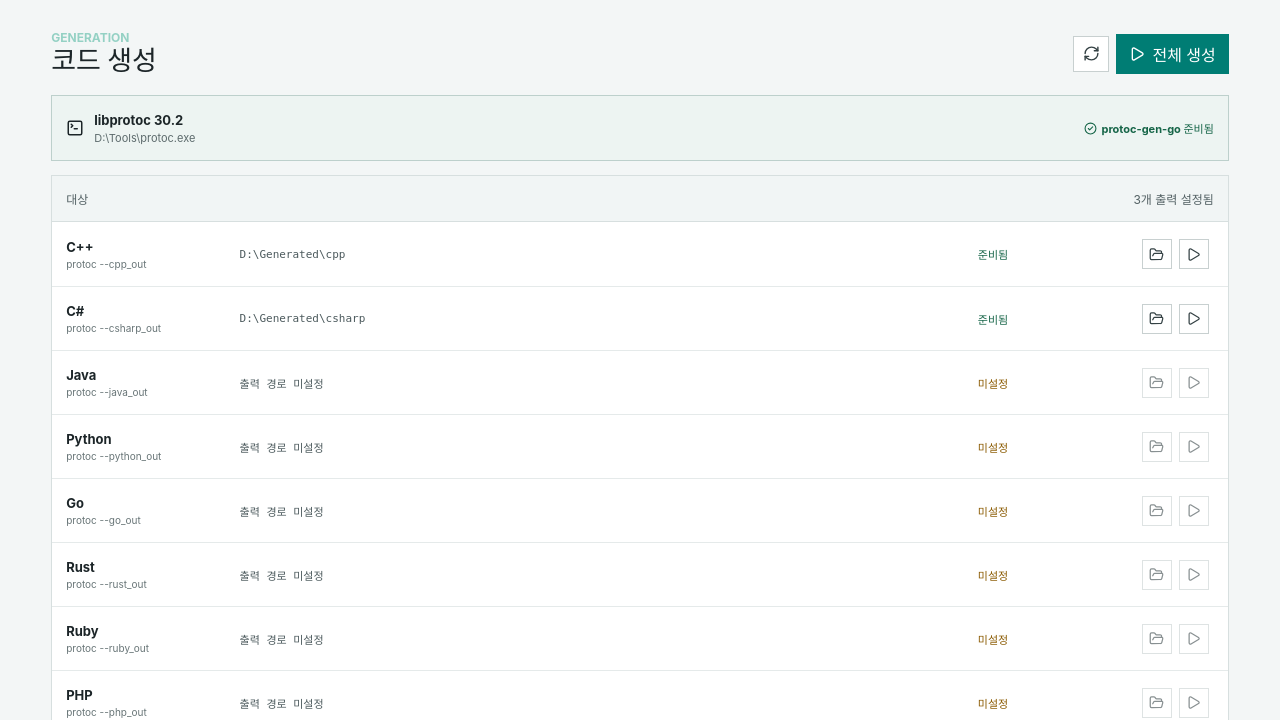
it: CodegenScreen › runs all configured protoc and Unreal outputs in order
What coordinates should you click on to do the following:
click the button "전체 생성"
I would click on:
 (1173, 54)
Its box is top-left (1116, 34), bottom-right (1229, 74).
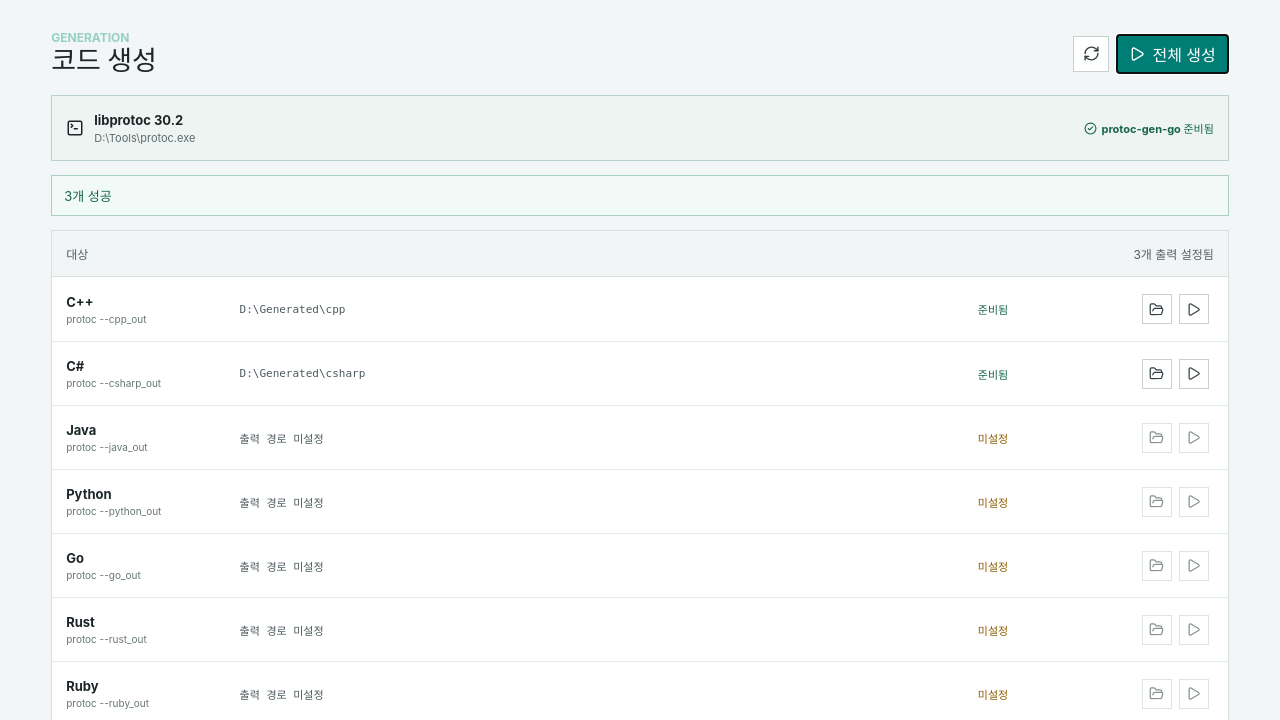
Expected: the text "3개 성공" is shown, top-left (51, 175), bottom-right (1229, 216)
